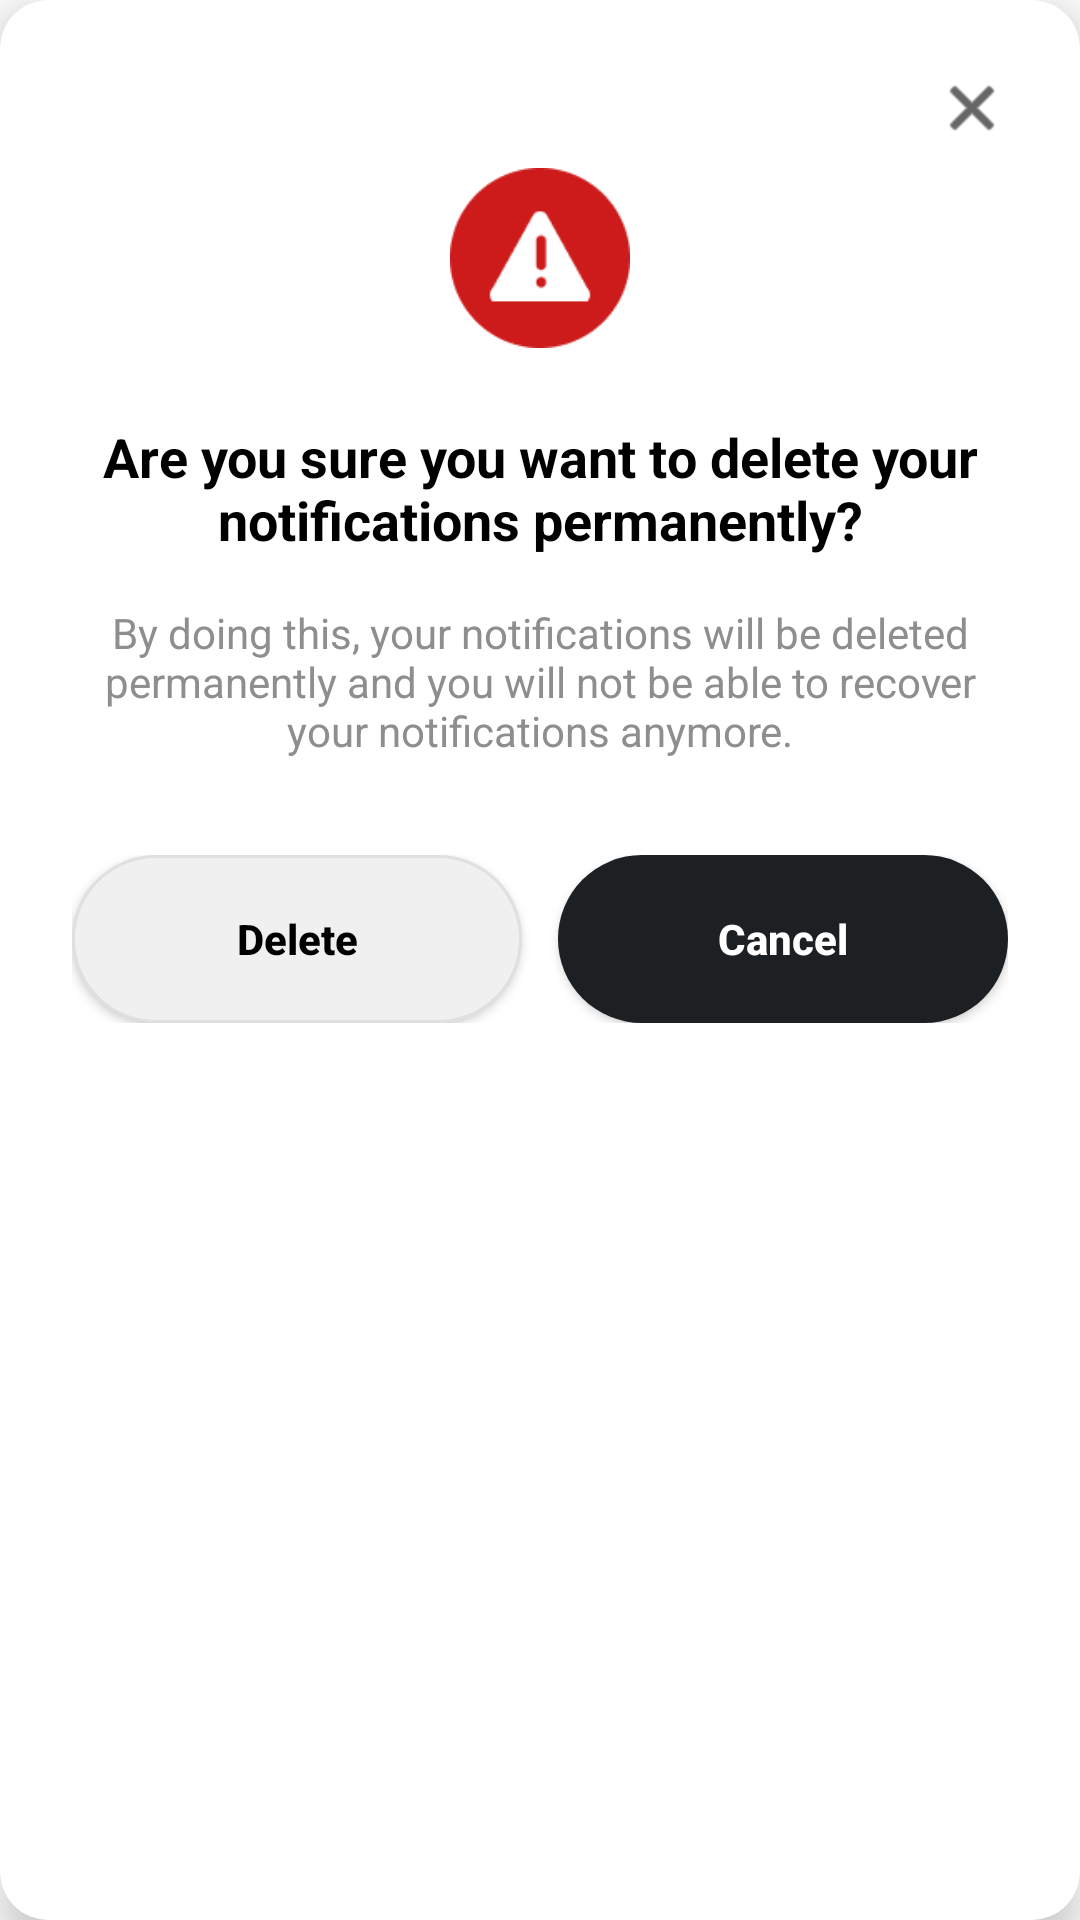

Named icons in this screenshot (1080 x 1920) and their centers, [x,y]:
Alert Icon: [540,258]
Close: [972,108]
